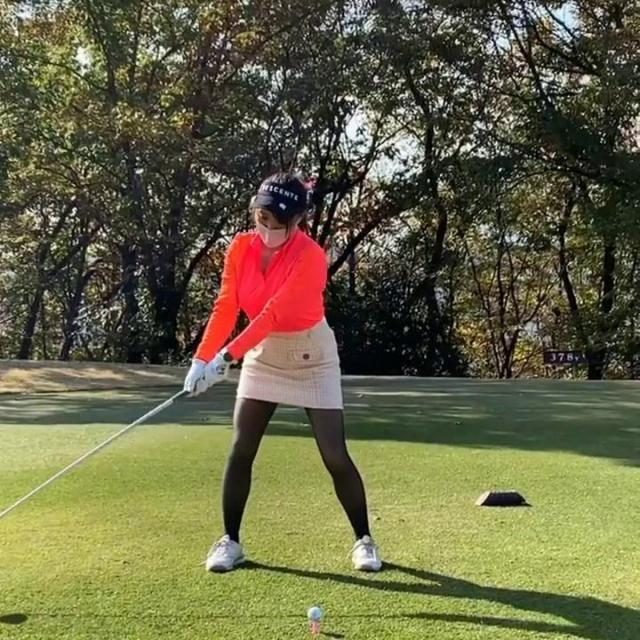ClubHandle: (0, 390, 188, 517)
GolfBall: (307, 607, 324, 621)
